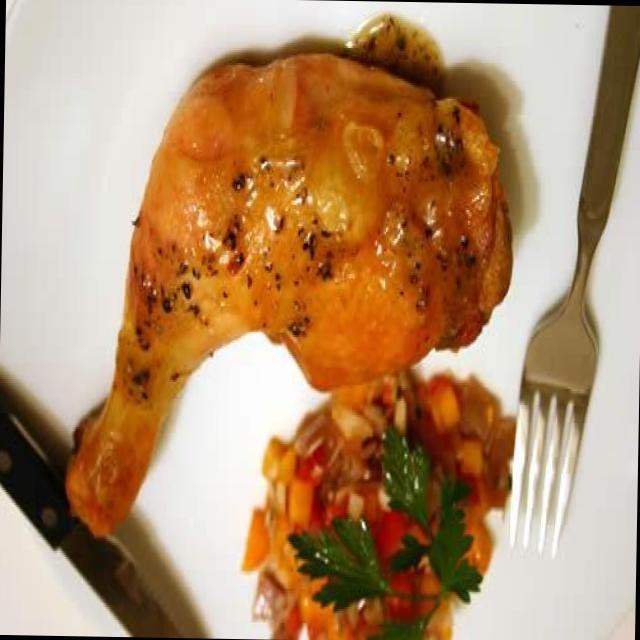Chicken: (67, 24, 514, 524)
